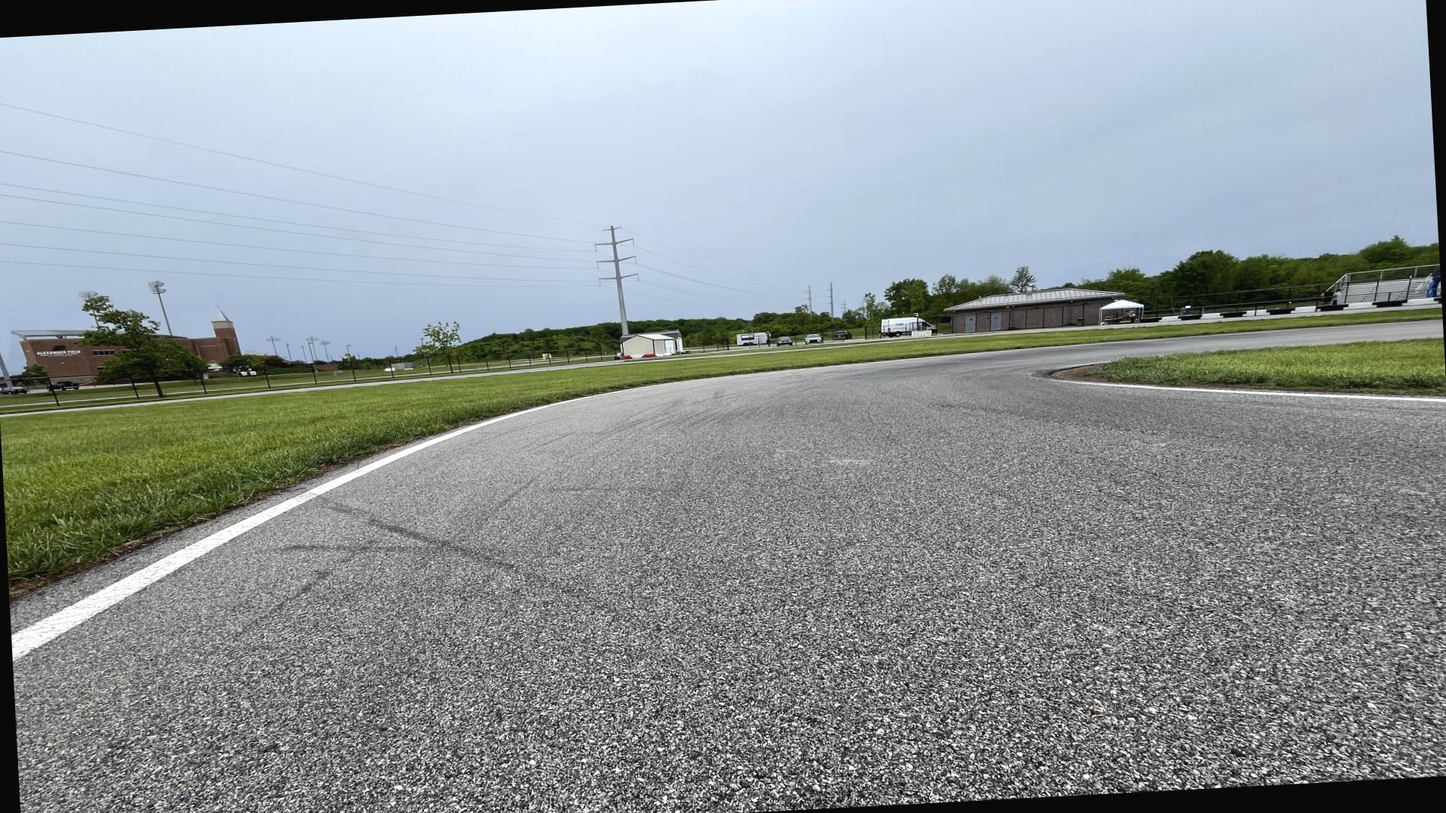white-line: (11, 340, 1139, 665), (1029, 373, 1445, 402), (1058, 361, 1114, 368)
